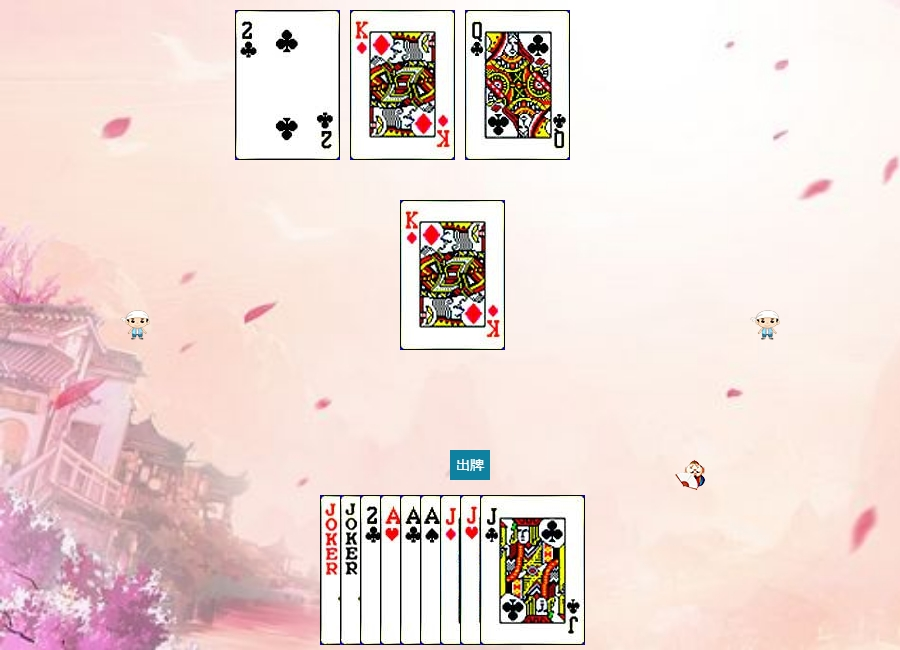11~1: (440, 495, 545, 645)
11~2: (480, 495, 585, 645)
11~3: (460, 495, 565, 645)
12~2: (465, 10, 570, 160)
13~1: (350, 10, 455, 160), (400, 200, 505, 350)
14~2: (400, 495, 505, 645)
14~3: (380, 495, 485, 645)
14~4: (420, 495, 525, 645)
15~2: (235, 10, 340, 160), (360, 495, 465, 645)
17~3: (340, 495, 445, 645)
18~4: (320, 495, 425, 645)
